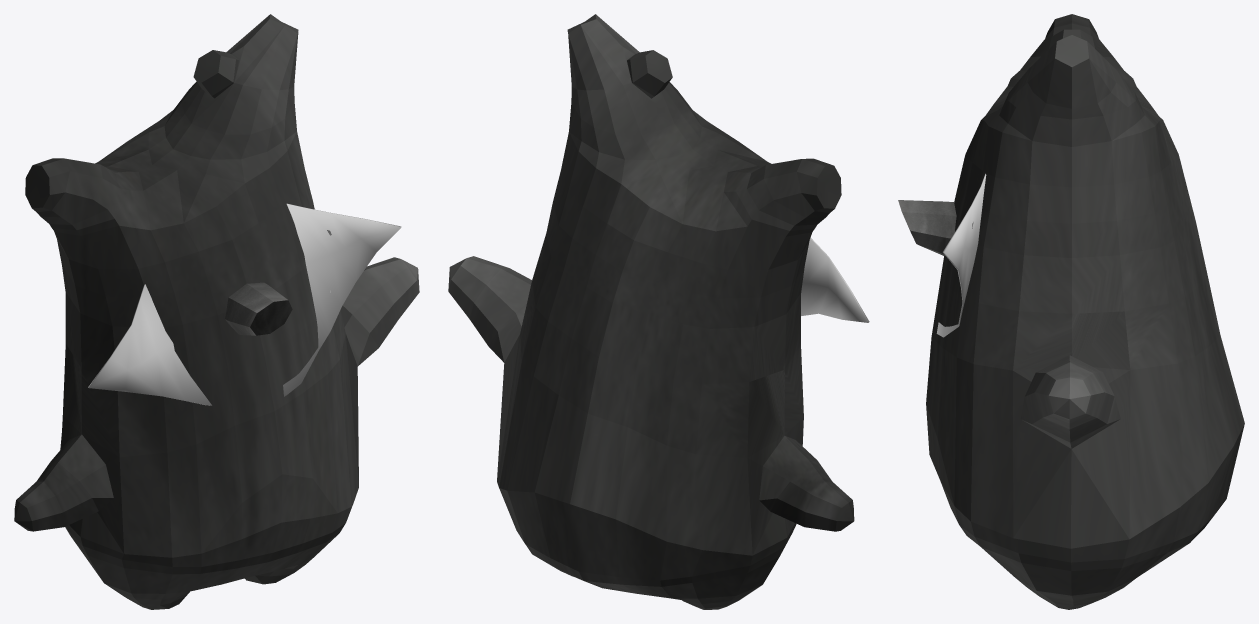
Rendered from frame_0007.obj.
3 views of the same model, side by side, from view 1: azimuth 30°, elevation 25°; view 2: azimuth 150°, elevation 25°; view 3: azimuth 270°, elevation 25° (orthographic). The views are drawn at different scales.
Visible parts, largest first — view 1: korok, leaf, nose; view 2: korok, leaf; view 3: korok, nose, leaf.
Part boxes in pixels (x1=…): korok: x1=14, y1=14, x2=419, y2=609; leaf: x1=88, y1=203, x2=401, y2=405; nose: x1=225, y1=282, x2=292, y2=335; korok: x1=448, y1=14, x2=854, y2=609; leaf: x1=801, y1=237, x2=869, y2=322; korok: x1=926, y1=14, x2=1244, y2=609; nose: x1=898, y1=200, x2=956, y2=255; leaf: x1=936, y1=173, x2=986, y2=337.
Size of the model in its own units: 1.75 by 2.32 by 1.27.
